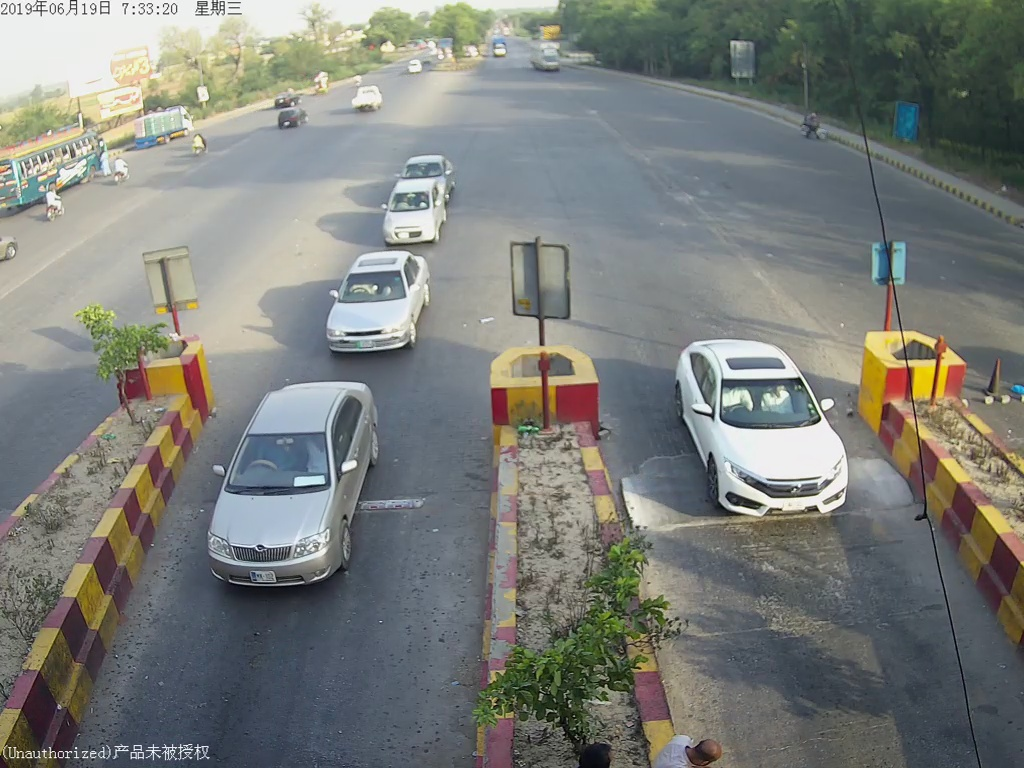Cat-1: (661, 335, 859, 546), (200, 376, 383, 600), (317, 249, 448, 364)
